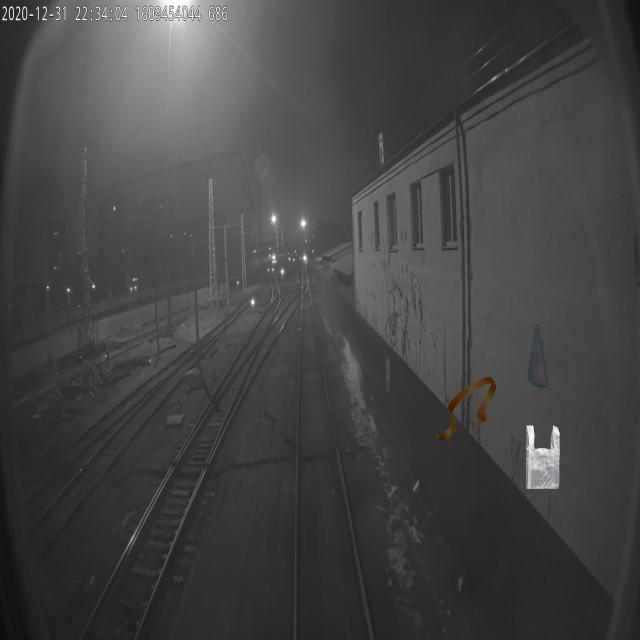floating object: (436, 377, 497, 441)
plastic bag: (526, 425, 560, 489)
